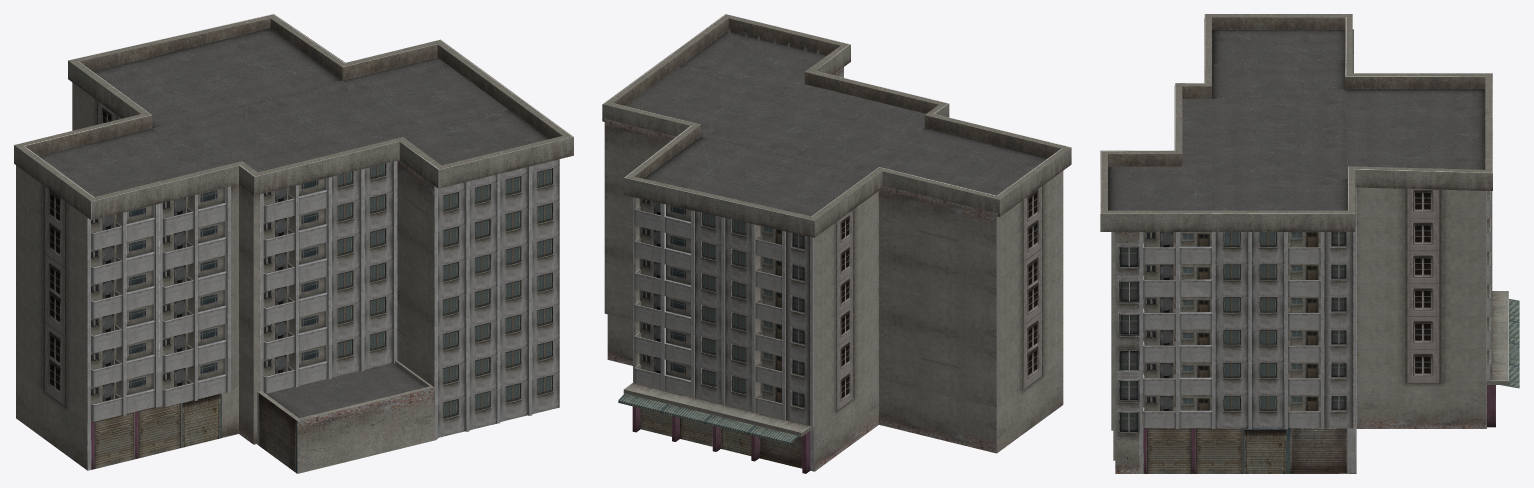
File: buildings_06_01.FBX
3 views of the same model, side by side, from view 1: azimuth 30°, elevation 25°; view 2: azimuth 150°, elevation 25°; view 3: azimuth 270°, elevation 25° (orthographic). The views are drawn at different scales.
Parts seen in each view (by area): view 1: Box002; view 2: Box002; view 3: Box002.
Boxes of the visible parts, x1,y1,x2,y2 form: Box002: (14,14,573,473); Box002: (602,14,1071,473); Box002: (1100,14,1519,473).
Bounding box in the file's own units: 3925 × 3476 × 2411.
1 material, 1 textured.
